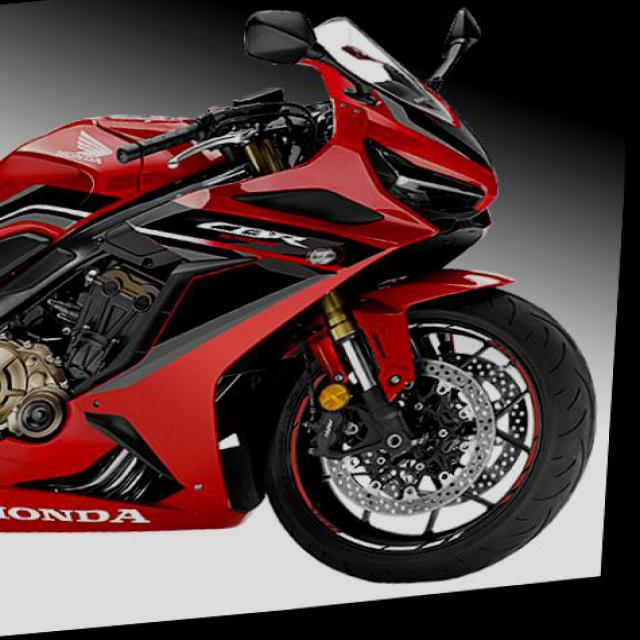CBR650R: (0, 0, 629, 638)
